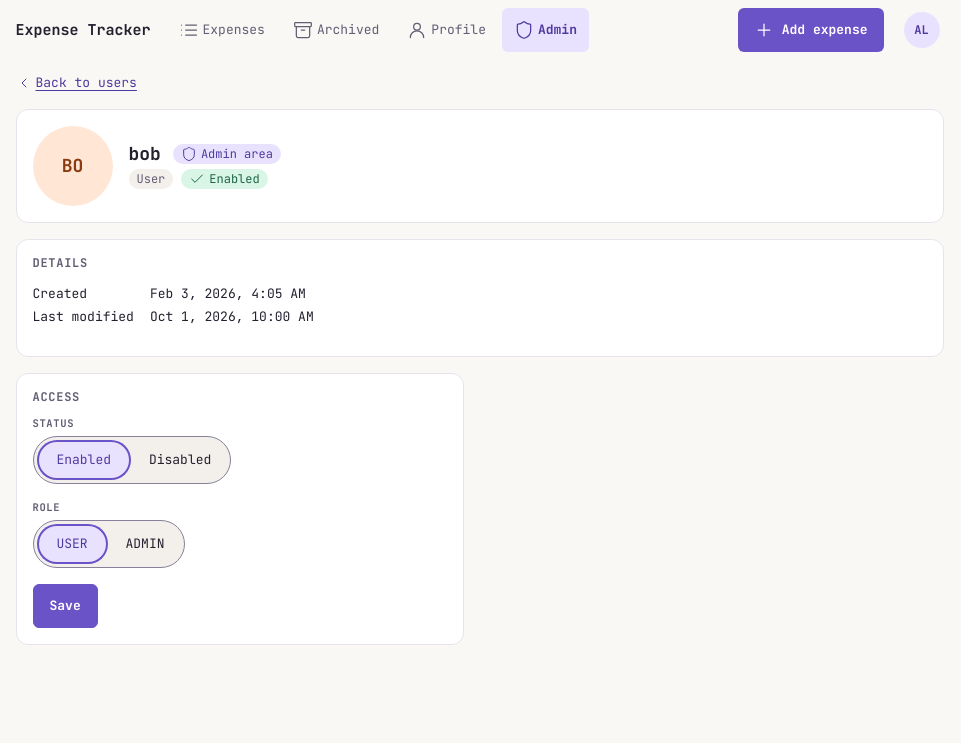
Test: edit user › shows EMPTY_PATCH when nothing changed
Expected: the heading "bob" is shown, [128,144,161,165]
Click the button "Save". click: (65, 606)
box: [32,584,98,628]
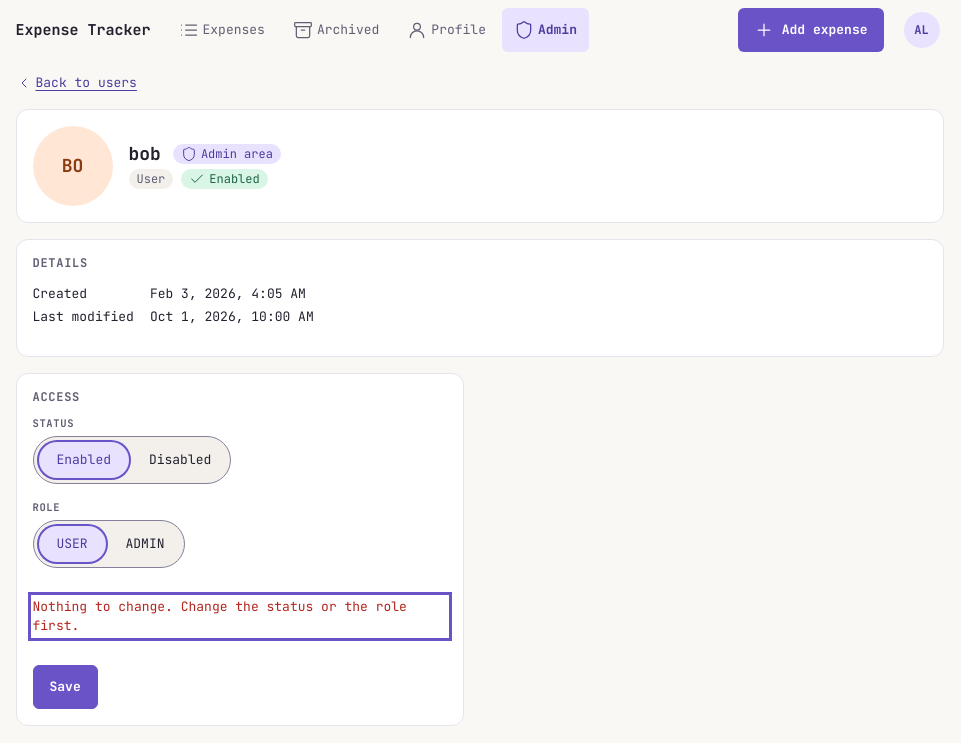
Expected: the message reads "Nothing to change. Change the status or the role first.", [32,598,407,634]
